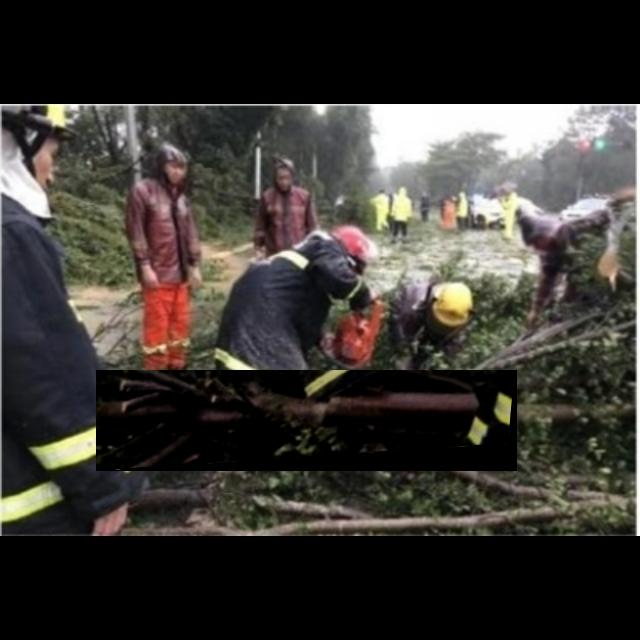Fallen Tree: (96, 370, 518, 472)
